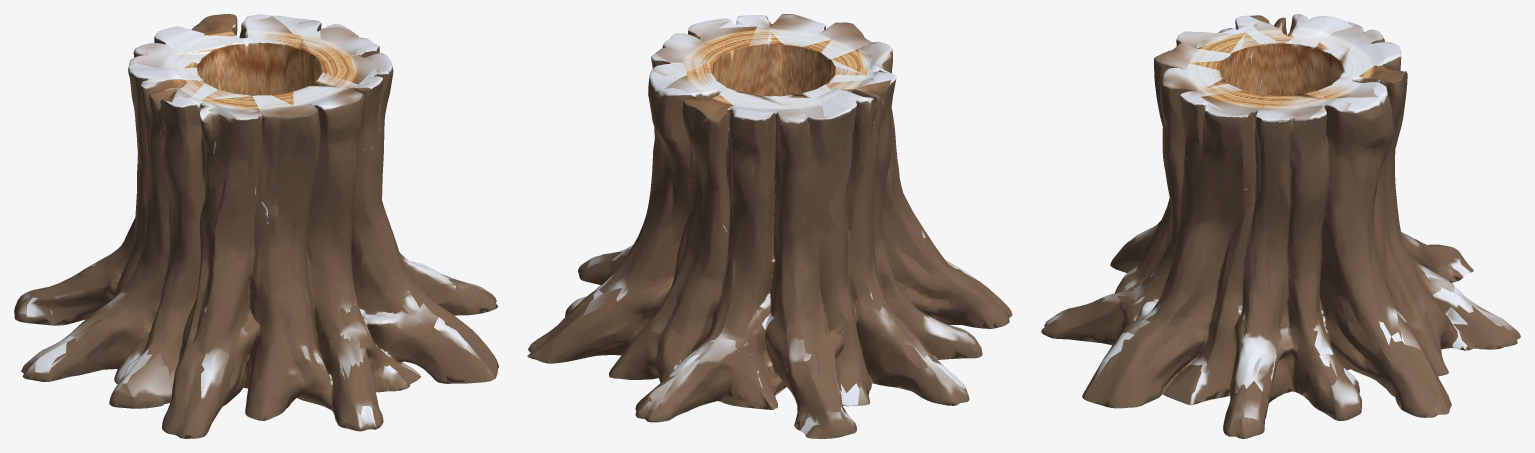
The model's file is treestump-snow-a.glb.
3 renders of one model, left to right at view 1: azimuth 30°, elevation 25°; view 2: azimuth 150°, elevation 25°; view 3: azimuth 270°, elevation 25°, orthographic.
Visible parts, largest first — view 1: Mesh_0; view 2: Mesh_0; view 3: Mesh_0.
Part boxes in pixels (box(x1,y1,x2,y2)): Mesh_0: box(14, 14, 498, 438); Mesh_0: box(527, 14, 1012, 438); Mesh_0: box(1041, 14, 1520, 438).
Size of the model in its own units: 1.16 by 0.7 by 1.12.
Materials: 1 (1 with a texture image).
